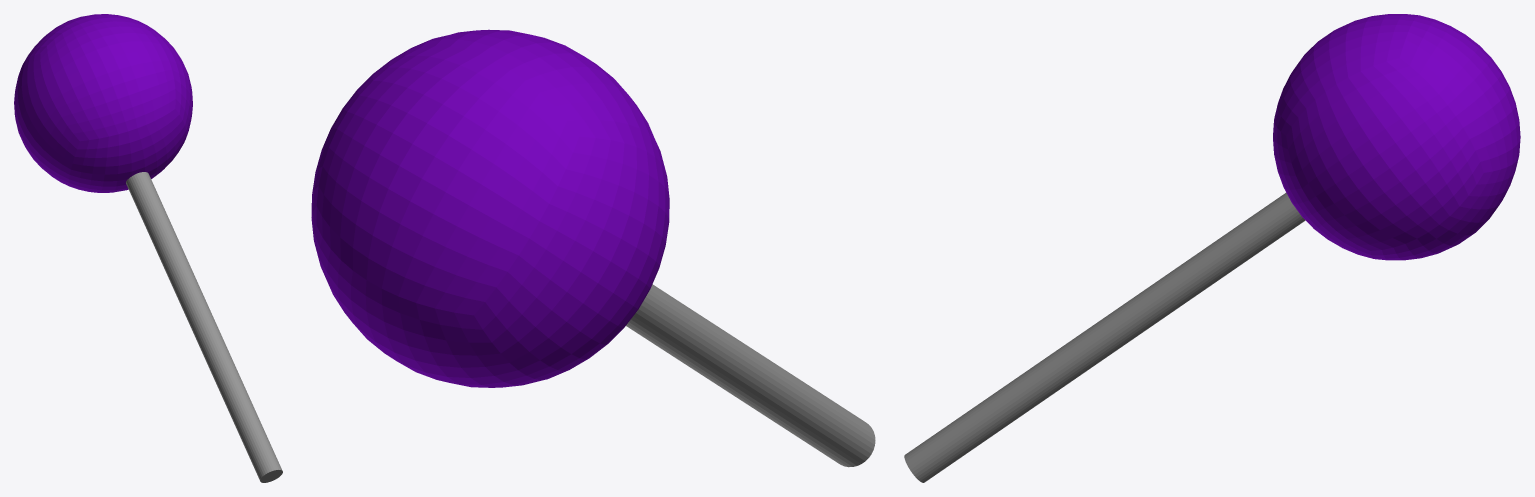
Rendered from stecknadel Irland.glb.
3 views of the same model, side by side, from view 1: azimuth 30°, elevation 25°; view 2: azimuth 150°, elevation 25°; view 3: azimuth 270°, elevation 25° (orthographic). The views are drawn at different scales.
Visible parts, largest first — view 1: Zylinder; view 2: Zylinder; view 3: Zylinder.
Part boxes in pixels (x1,y1,x2,y2): Zylinder: (14, 14, 282, 482); Zylinder: (311, 29, 875, 467); Zylinder: (904, 14, 1520, 482).
Size of the model in its own units: 0.0908 by 0.1865 by 0.2263.
